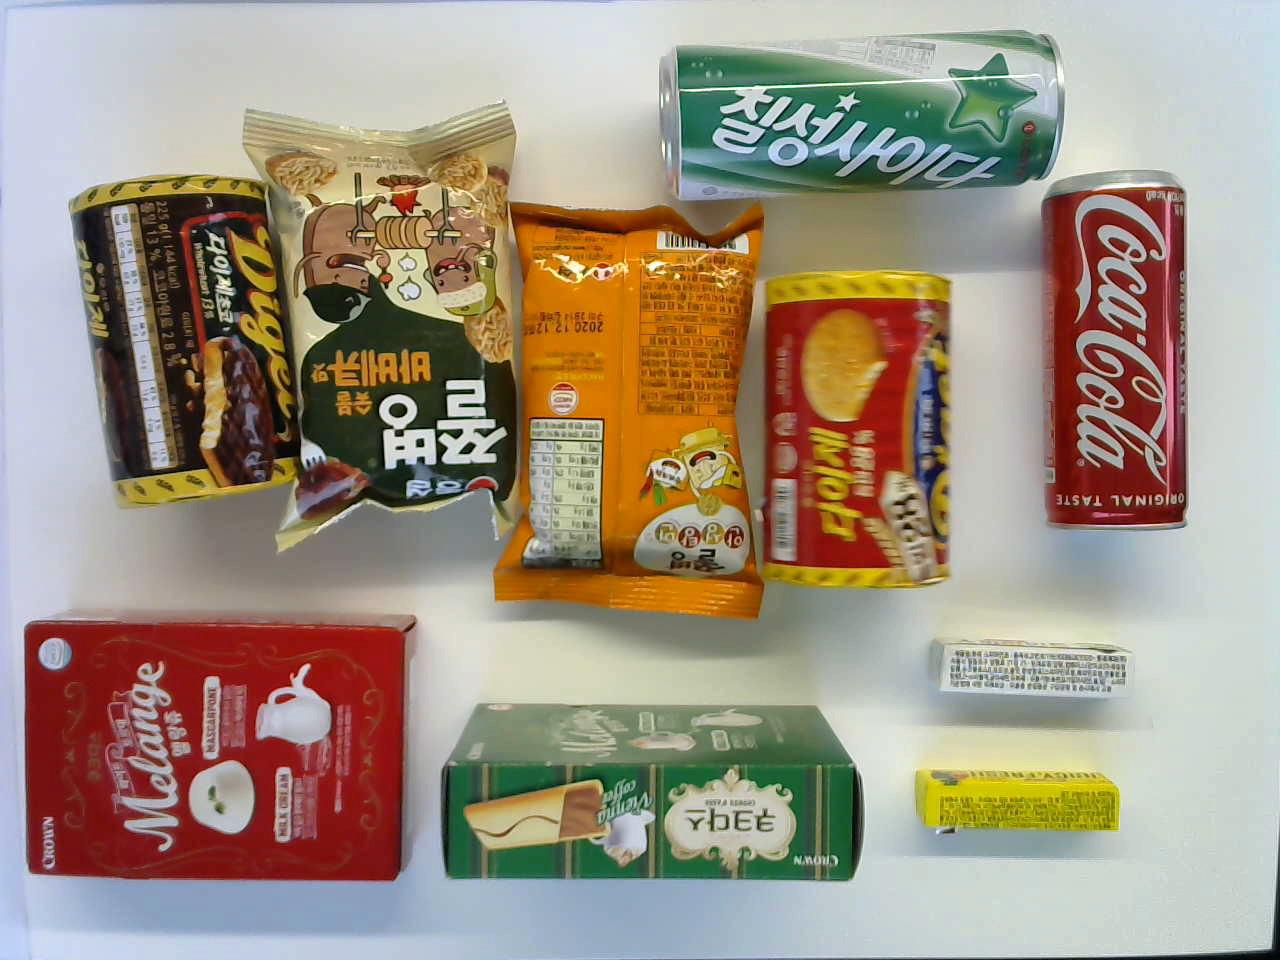cidar: (654, 23, 1069, 188)
coke: (1038, 171, 1189, 546)
couque_coffee: (435, 692, 870, 883)
couque_white: (16, 600, 420, 886)
diget_choco: (60, 170, 298, 505), (654, 23, 1069, 188)
diget_ori: (761, 270, 953, 590)
jjolbyung_noodle: (485, 202, 767, 604)
jjolbyung_ori: (274, 96, 520, 551)
juicyfresh: (914, 766, 1120, 840)
spearmint: (927, 638, 1132, 699)
